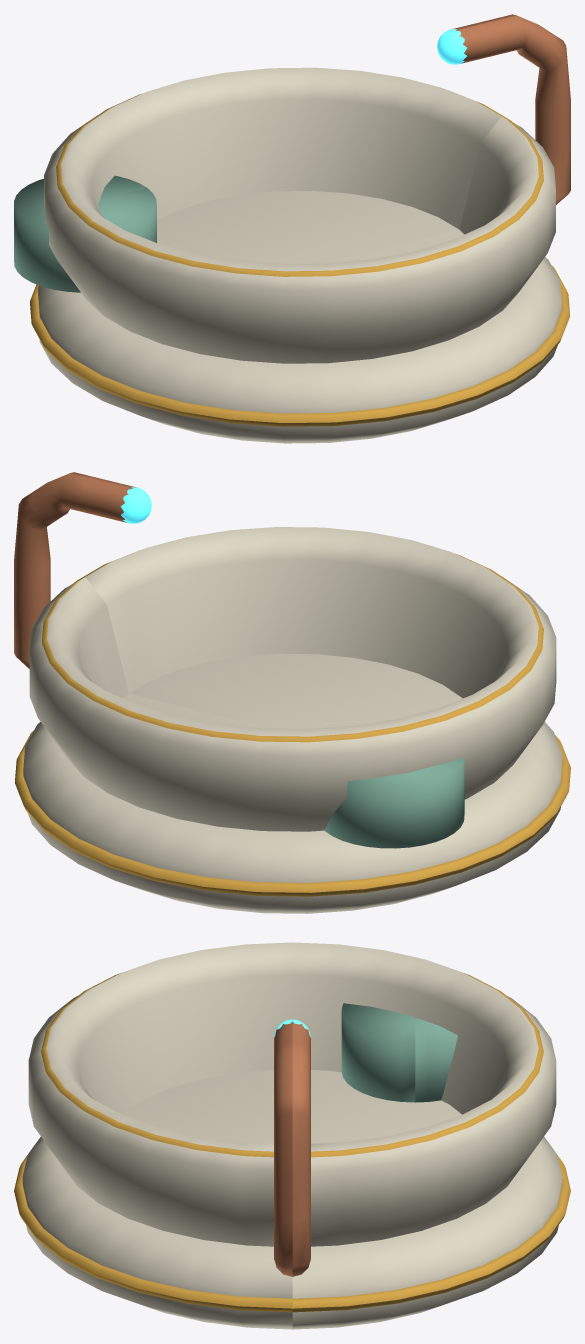
File: reservoirGarden.glb
3 views of the same model, one above another, from view 1: azimuth 30°, elevation 25°; view 2: azimuth 150°, elevation 25°; view 3: azimuth 270°, elevation 25° (orthographic). The views are drawn at different scales.
Visible parts, largest first — view 1: reservoirGarden, status-light; view 2: reservoirGarden, status-light; view 3: reservoirGarden.
Boxes of the visible parts, x1,y1,x2,y2 form: reservoirGarden: [14, 14, 570, 443]; status-light: [437, 29, 466, 64]; reservoirGarden: [14, 472, 570, 913]; status-light: [120, 487, 151, 523]; reservoirGarden: [14, 942, 570, 1329].
Bounding box in the file's own units: 0.974 × 0.52 × 0.908.
